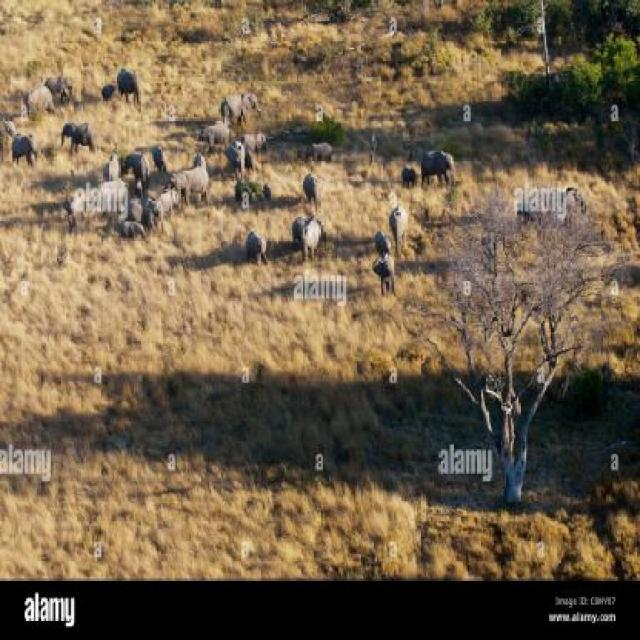elephant: (118, 48, 148, 108), (58, 116, 100, 158), (220, 85, 260, 129), (238, 224, 274, 265), (189, 118, 231, 151), (8, 123, 38, 168), (388, 203, 414, 254), (424, 142, 456, 182), (123, 144, 154, 185), (23, 86, 55, 122), (303, 138, 335, 172), (171, 172, 209, 200), (371, 255, 397, 294), (302, 222, 324, 264), (240, 131, 274, 158), (228, 144, 252, 182), (45, 70, 80, 96), (302, 166, 322, 208), (152, 142, 179, 172), (101, 146, 119, 186), (122, 186, 144, 217), (116, 220, 147, 240), (145, 192, 158, 239), (160, 184, 177, 218), (367, 227, 391, 248), (194, 151, 211, 178), (101, 74, 114, 105), (403, 158, 415, 188), (266, 179, 280, 203)
